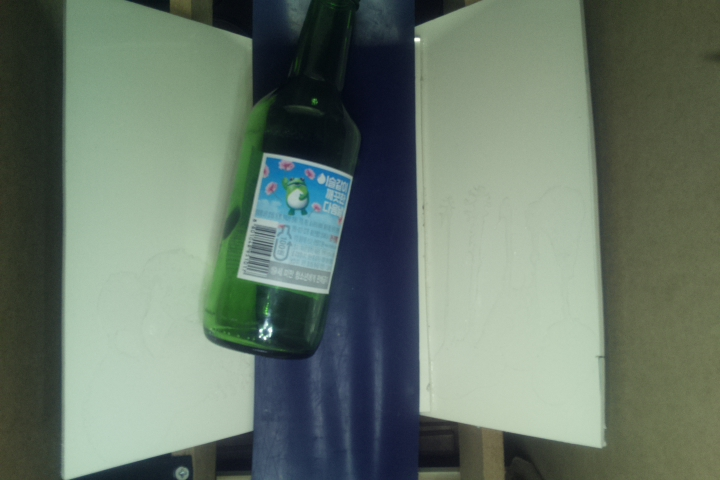soju: (199, 1, 381, 364)
